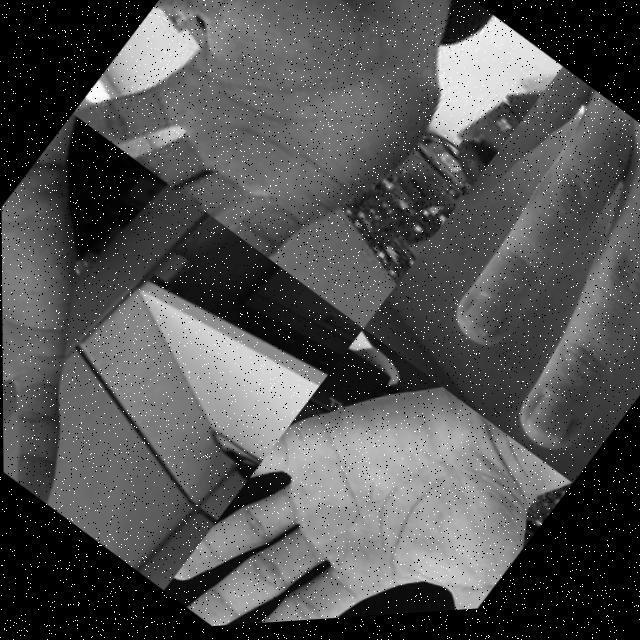no-gloves: (161, 324, 573, 632), (71, 0, 479, 310), (366, 70, 640, 496), (1, 153, 215, 511)
